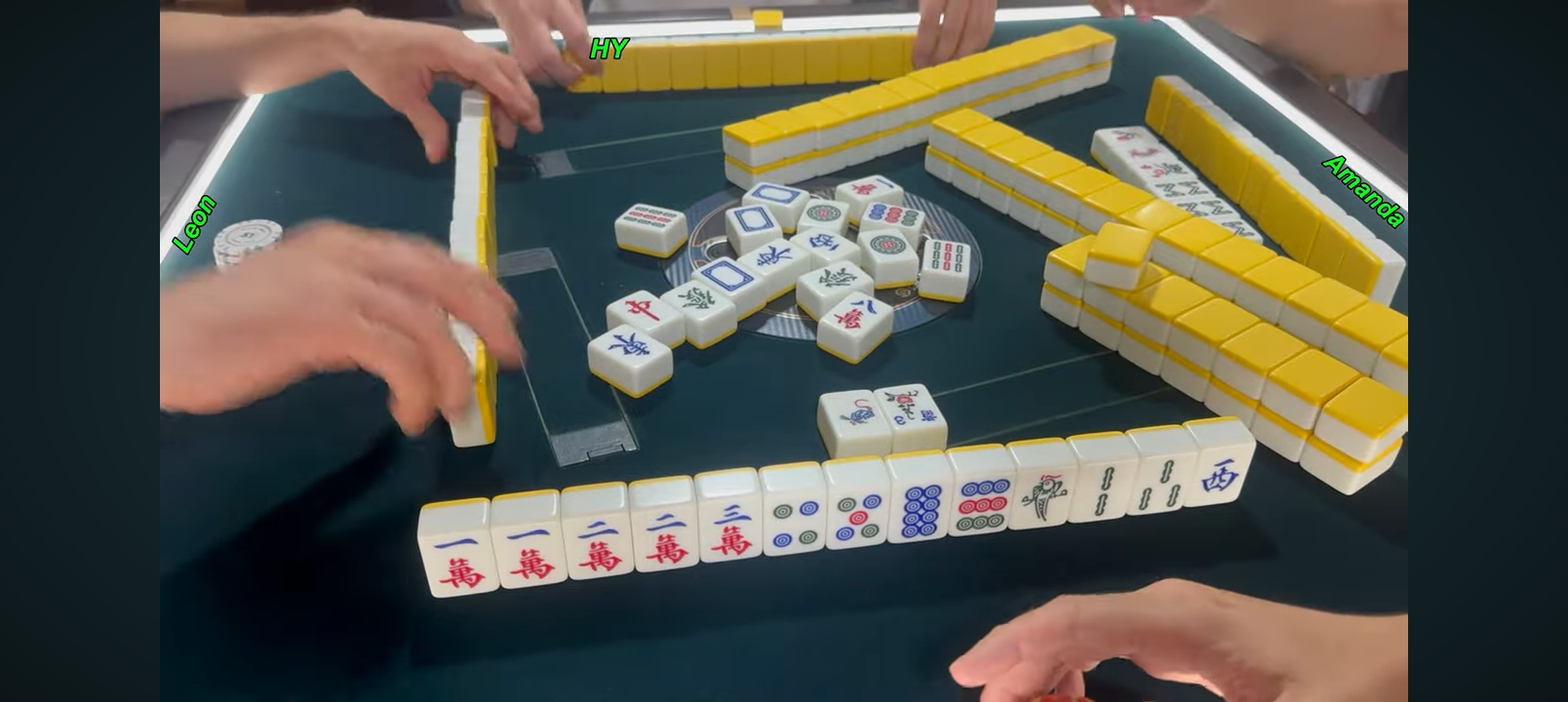TILE: (416, 530, 496, 597), (492, 523, 565, 587), (563, 513, 634, 577), (632, 505, 698, 571), (698, 496, 764, 562), (763, 490, 827, 555), (827, 485, 892, 547), (1016, 465, 1079, 527), (1133, 453, 1195, 514), (954, 474, 1017, 534), (894, 479, 953, 541), (1078, 460, 1137, 520), (1192, 444, 1250, 504), (878, 383, 945, 430), (820, 391, 886, 434)
